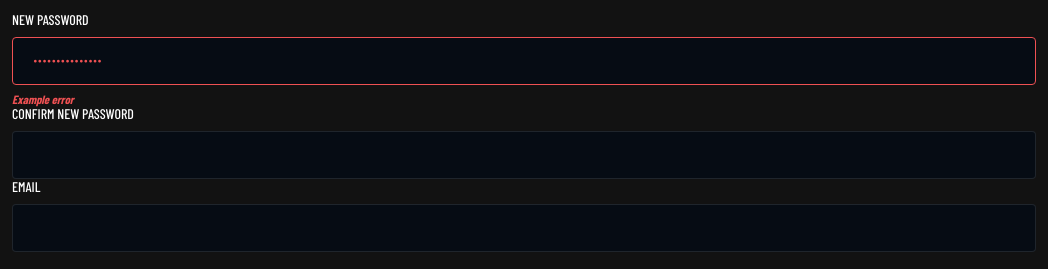
toggles each password independently without changing its value or submitting
Click the button named "Show new password" at (1014, 61), box [992,37,1036,85]
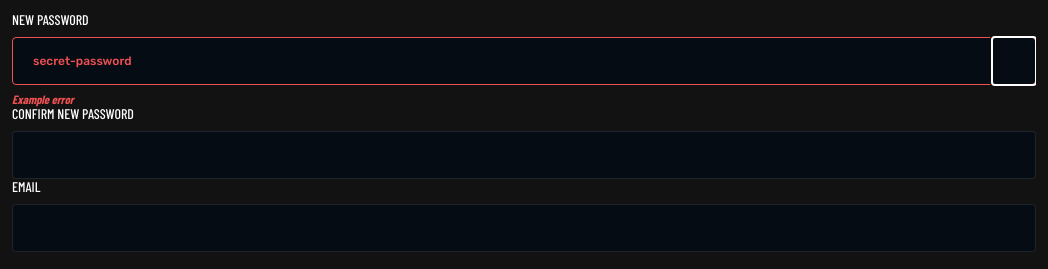
Expected: the field labelled "New password" holds "secret-password", [12,37,1036,85]
Expected: the field labelled "New password" shows its text, [12,37,1036,85]
Click the button named "Hide new password" at (1014, 61), box [992,37,1036,85]
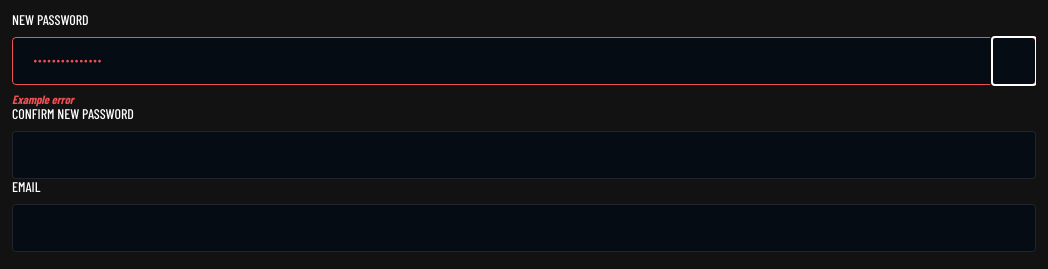
Expected: the password field labelled "New password" hides its text, [12,37,1036,85]
